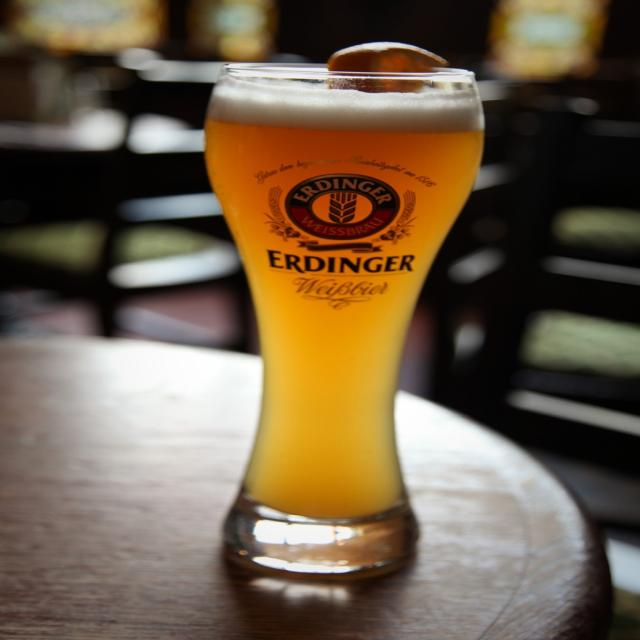erdinger: (253, 153, 440, 278)
